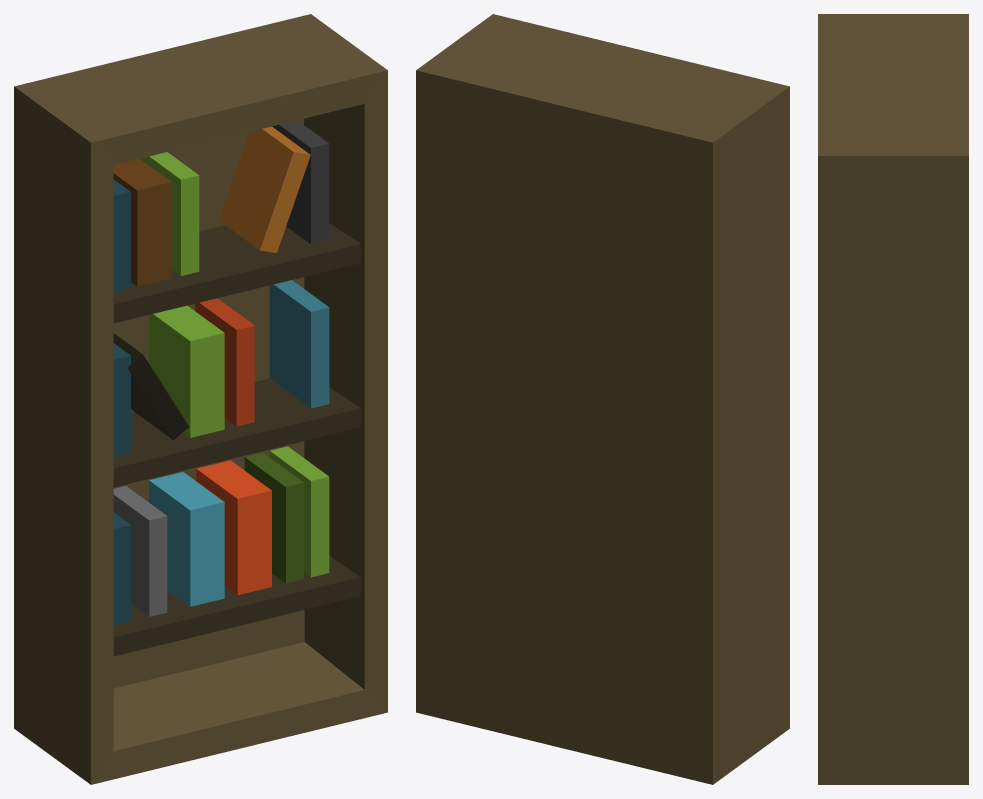
File: obs_med_bookcase.fbx
The picture shows the model from 3 angles, left to right: view 1: azimuth 30°, elevation 25°; view 2: azimuth 150°, elevation 25°; view 3: azimuth 270°, elevation 25°; orthographic projection. The views are drawn at different scales.
Visible parts, largest first — view 1: pCube92; view 2: pCube92; view 3: pCube92.
Boxes of the visible parts, x1=… form: pCube92: x1=14, y1=14, x2=387, y2=784; pCube92: x1=416, y1=14, x2=789, y2=784; pCube92: x1=818, y1=14, x2=968, y2=784.
Size of the model in its own units: 1.64 by 3.39 by 0.7357.
